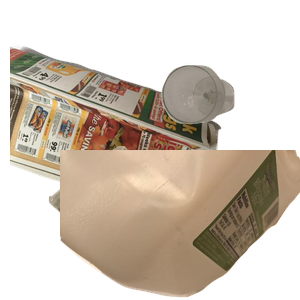glass: (159, 63, 300, 179)
paper: (10, 42, 224, 222)
plastic: (60, 150, 300, 300)
trash: (46, 144, 188, 300)
